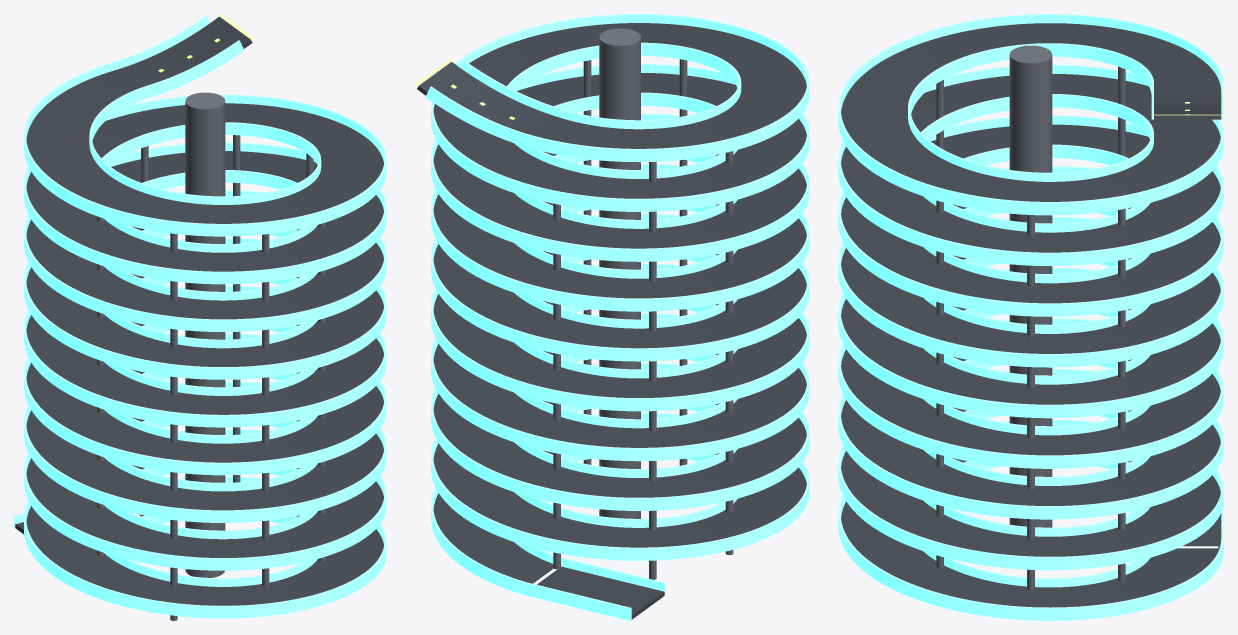
Rendered from spiral_track.glb.
3 views of the same model, side by side, from view 1: azimuth 30°, elevation 25°; view 2: azimuth 150°, elevation 25°; view 3: azimuth 270°, elevation 25° (orthographic). The views are drawn at different scales.
Parts seen in each view (by area): view 1: SpiralDeck, SpiralRailL, SpiralRailR, SpiralCore; view 2: SpiralDeck, SpiralRailL, SpiralRailR, SpiralCore; view 3: SpiralDeck, SpiralRailL, SpiralRailR, SpiralCore.
Part boxes in pixels (x1,y1,x2,y2): SpiralDeck: (15,16,383,605); SpiralRailL: (14,16,386,618); SpiralRailR: (89,40,321,586); SpiralCore: (185,92,225,577); SpiralDeck: (417,23,806,619); SpiralRailL: (425,14,809,620); SpiralRailR: (461,42,741,595); SpiralCore: (599,28,640,518); SpiralDeck: (841,23,1221,607); SpiralRailL: (838,14,1223,620); SpiralRailR: (908,43,1153,587); SpiralCore: (1009,45,1052,527).
Bounding box in the file's own units: 68.9 × 98.27 × 68.9.
